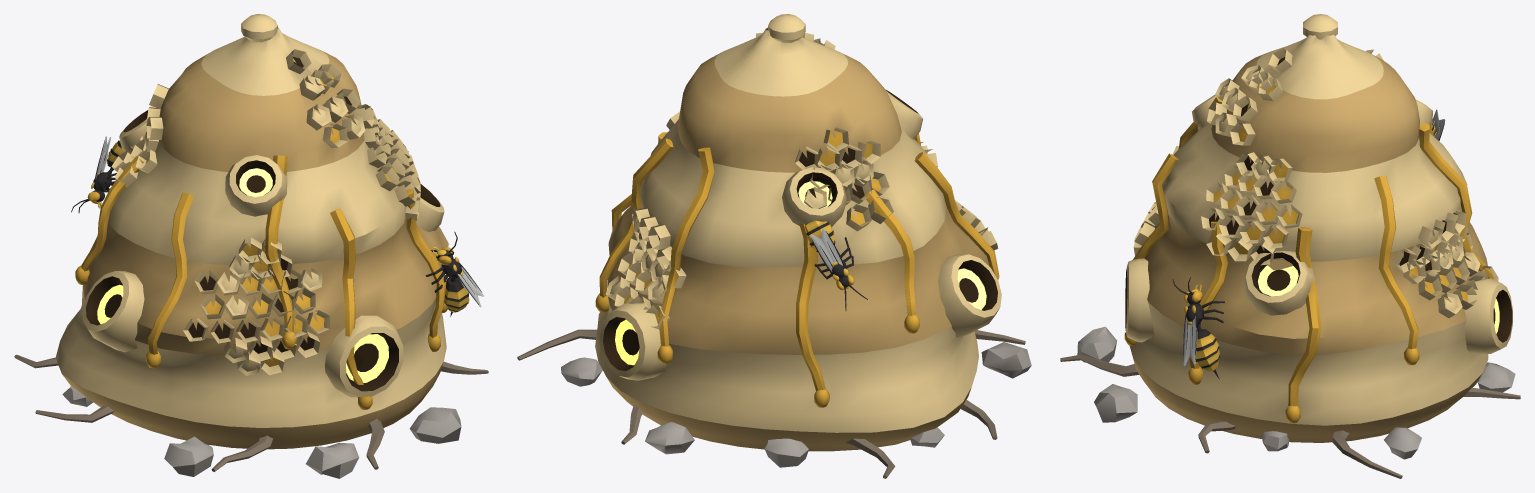
File: hive_nest.glb
3 views of the same model, side by side, from view 1: azimuth 30°, elevation 25°; view 2: azimuth 150°, elevation 25°; view 3: azimuth 270°, elevation 25° (orthographic). The views are drawn at different scales.
Visible parts, largest first — view 1: core, base; view 2: core, base; view 3: core, base.
Boxes of the visible parts, x1,y1,x2,y2 form: core: [55, 14, 483, 449]; base: [14, 354, 488, 478]; core: [595, 14, 1001, 451]; base: [517, 329, 1031, 478]; core: [1124, 14, 1512, 442]; base: [1060, 326, 1520, 478].
Bounding box in the file's own units: 3.1 × 2.5 × 2.86.
